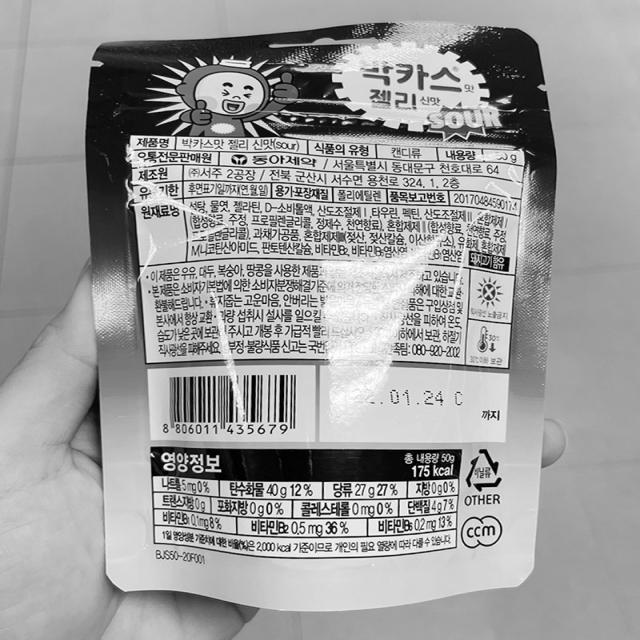Nutrition Label: (147, 446, 465, 567)
